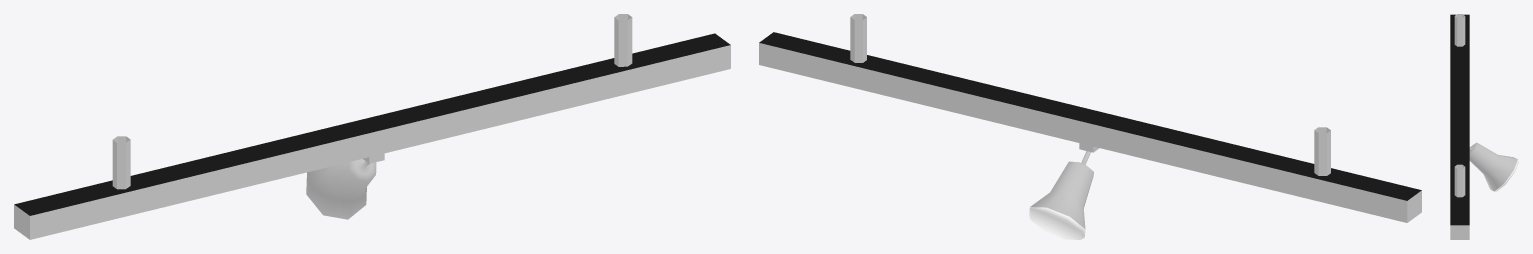
Rendered from main-light-north.glb.
3 renders of one model, left to right at view 1: azimuth 30°, elevation 25°; view 2: azimuth 150°, elevation 25°; view 3: azimuth 270°, elevation 25°, orthographic. The views are drawn at different scales.
Visible parts, largest first — view 1: Lobby Track Lighting Opening North; view 2: Lobby Track Lighting Opening North; view 3: Lobby Track Lighting Opening North.
Boxes of the visible parts, x1=… form: Lobby Track Lighting Opening North: x1=14, y1=14, x2=730, y2=239; Lobby Track Lighting Opening North: x1=759, y1=14, x2=1421, y2=239; Lobby Track Lighting Opening North: x1=1450, y1=14, x2=1518, y2=239.
Size of the model in its own units: 2.33 by 0.5072 by 0.3206.
1 material, 1 textured.
